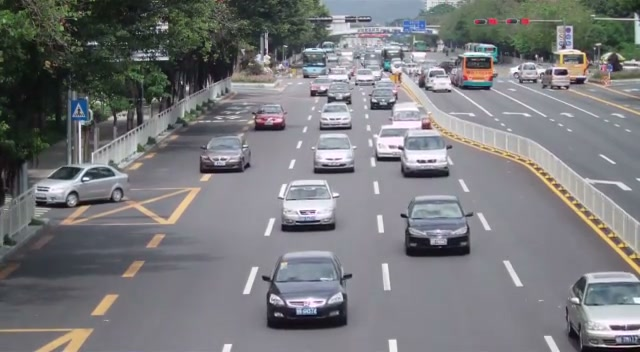bus: (450, 52, 496, 89)
car: (260, 250, 353, 329), (564, 271, 640, 352), (400, 194, 474, 256), (34, 164, 129, 208), (277, 178, 340, 231), (399, 130, 453, 178), (199, 135, 251, 173), (312, 133, 356, 174), (374, 124, 419, 161), (254, 103, 287, 131), (319, 102, 353, 129), (541, 67, 571, 90), (518, 63, 540, 83), (310, 77, 332, 96)
pedestrian: (600, 60, 612, 86)
truck: (553, 49, 589, 84), (542, 67, 571, 90)
